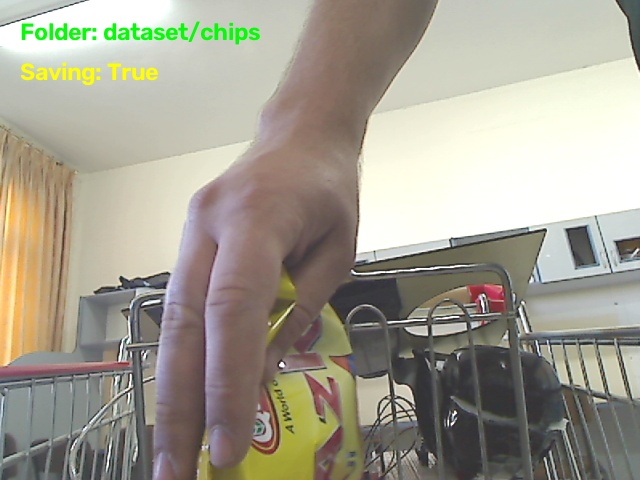chips: (197, 305, 362, 479)
